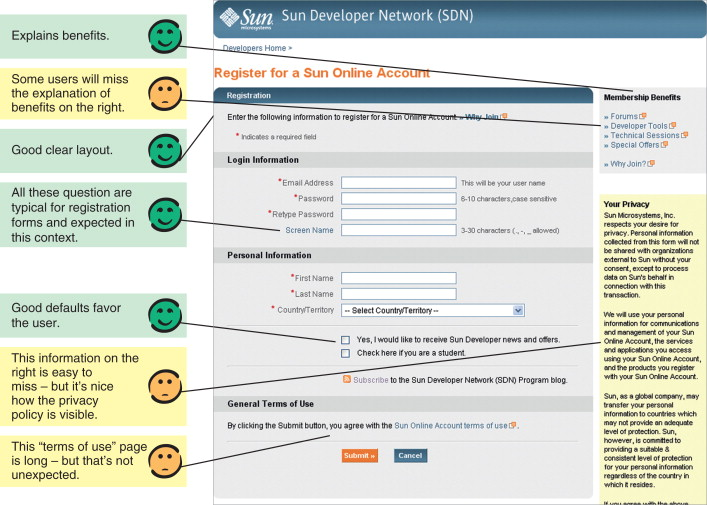checkbox: (338, 331, 562, 346), (339, 347, 467, 360)
dropdown: (340, 302, 530, 321)
